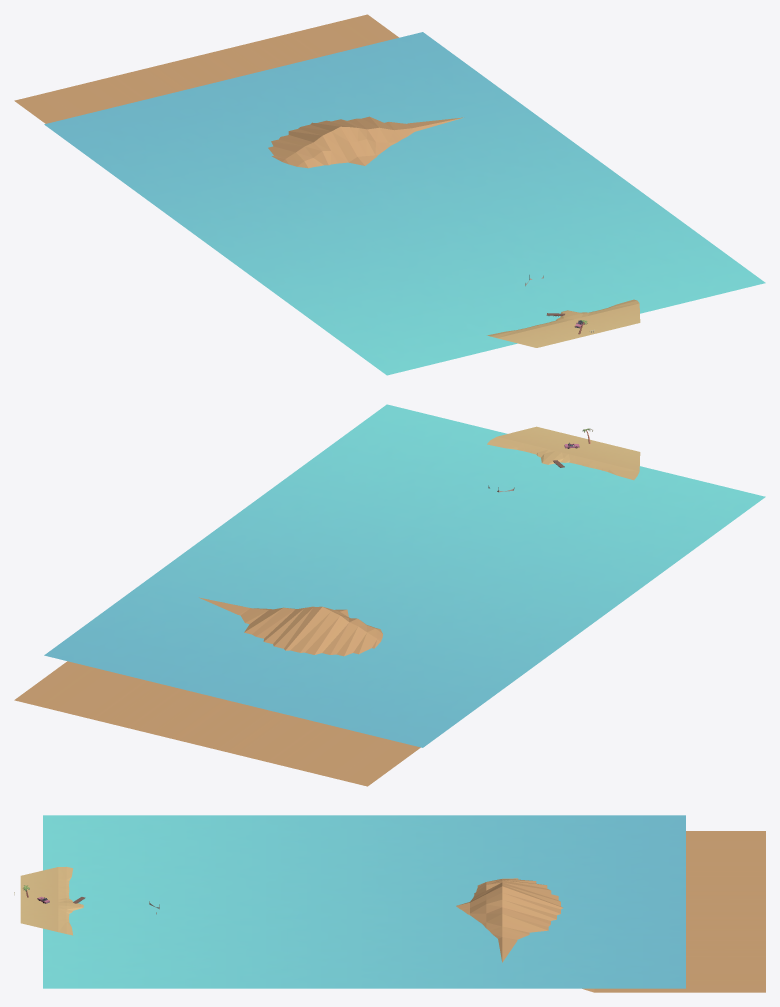
File: Stane.fbx
3 renders of one model, top to bottom at view 1: azimuth 30°, elevation 25°; view 2: azimuth 150°, elevation 25°; view 3: azimuth 270°, elevation 25°, orthographic. The views are drawn at different scales.
Visible parts, largest first — view 1: Sea, Ground stane; view 2: Sea, Ground stane; view 3: Sea, Ground stane.
Boxes of the visible parts, box(x1,y1,x2,y2) form: Sea: box(44, 32, 765, 375); Ground stane: box(14, 14, 640, 347); Sea: box(44, 404, 765, 747); Ground stane: box(14, 426, 640, 786); Sea: box(43, 815, 685, 988); Ground stane: box(20, 831, 765, 992).
Bounding box in the file's own units: 76.22 × 7.02 × 140.
